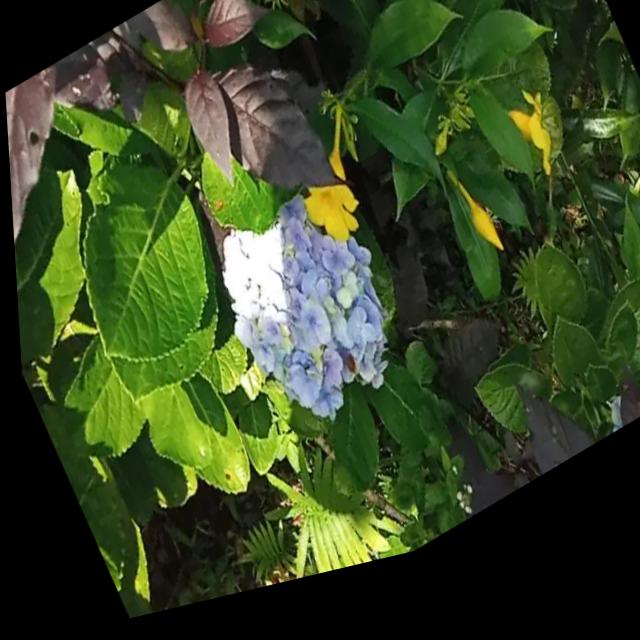Flower: (193, 176, 409, 471)
